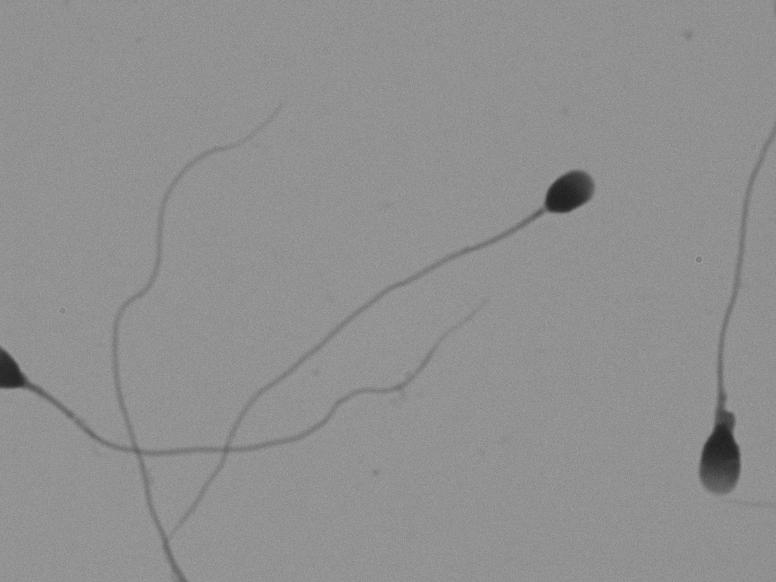Abnormal: (666, 175, 762, 536)
Normal: (201, 127, 649, 494)
